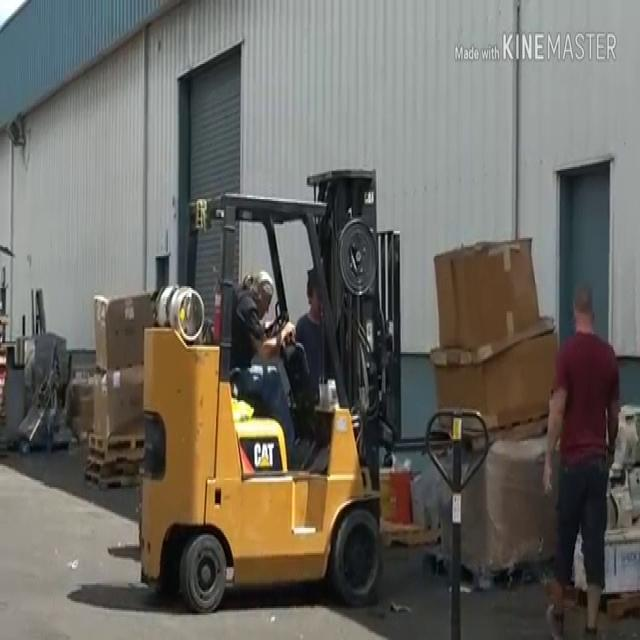Chariot elevateur: (134, 165, 407, 608)
